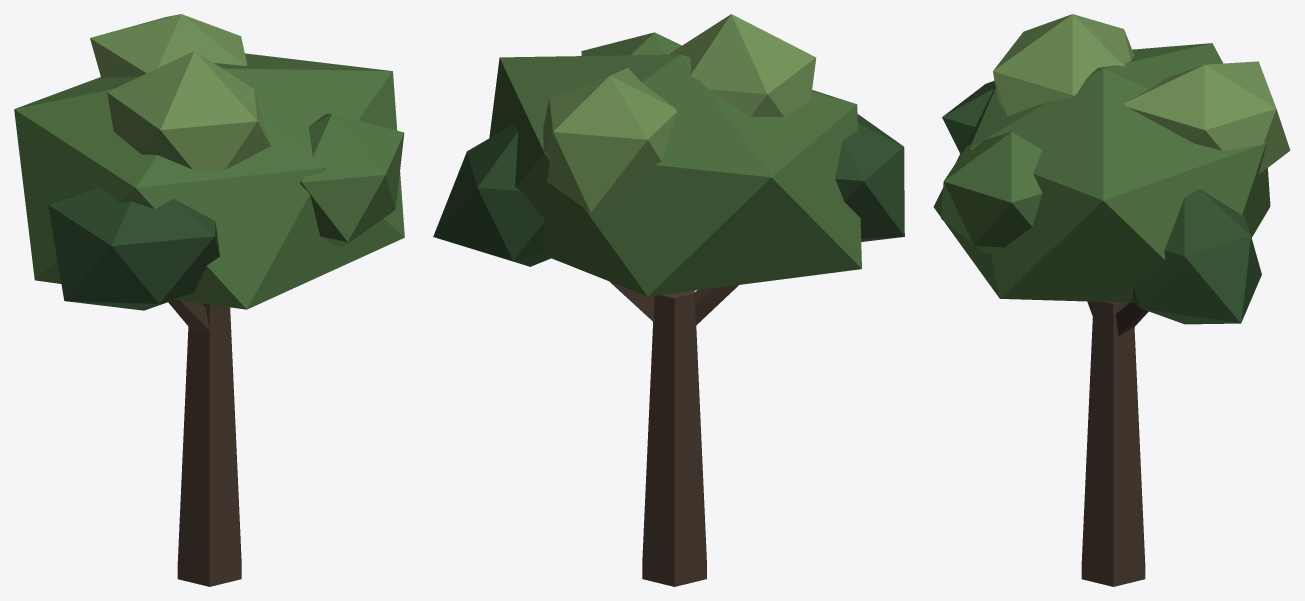
File: tree_oak_big_lod1.glb
The picture shows the model from 3 angles, left to right: view 1: azimuth 30°, elevation 25°; view 2: azimuth 150°, elevation 25°; view 3: azimuth 270°, elevation 25°; orthographic projection.
Visible parts, largest first — view 1: tree_oak_big_lod1; view 2: tree_oak_big_lod1; view 3: tree_oak_big_lod1.
Part boxes in pixels (<box>): tree_oak_big_lod1: <box>14,14,404,586</box>; tree_oak_big_lod1: <box>433,14,904,586</box>; tree_oak_big_lod1: <box>933,14,1290,586</box>.
Size of what is drawn, in the model's own units: 4.1 by 5.85 by 3.5.
1 material, 1 textured.
